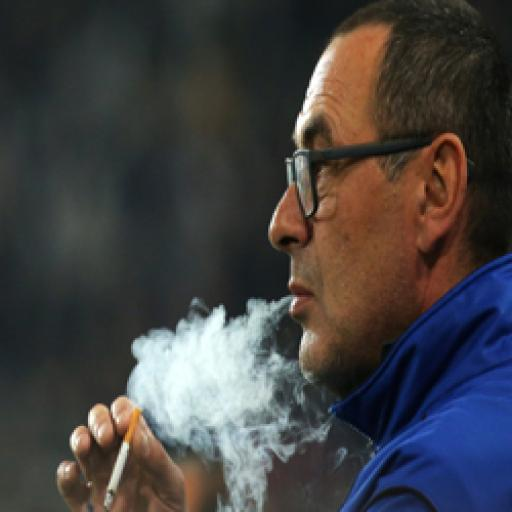pegang rokok: (66, 355, 168, 512)
